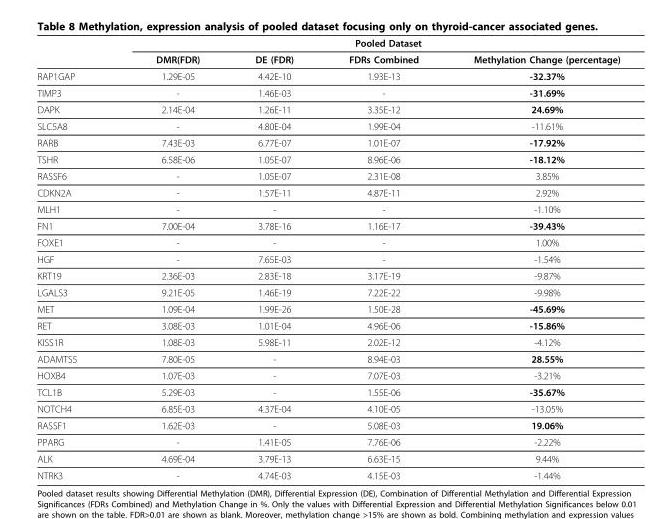table: (36, 36, 619, 480)
table column: (445, 36, 619, 480), (320, 36, 445, 480), (115, 36, 226, 480), (226, 36, 320, 480), (36, 36, 115, 480)
table column header: (36, 36, 619, 67)
table row: (36, 50, 619, 67), (36, 67, 619, 84), (36, 100, 619, 117), (36, 117, 619, 134), (36, 150, 619, 167), (36, 183, 619, 200), (36, 200, 619, 217), (36, 233, 619, 250), (36, 250, 619, 267), (36, 283, 619, 300), (36, 316, 619, 333), (36, 333, 619, 350), (36, 366, 619, 383), (36, 383, 619, 400), (36, 416, 619, 433), (36, 433, 619, 450), (36, 84, 619, 100), (36, 134, 619, 150), (36, 167, 619, 183), (36, 217, 619, 233), (36, 267, 619, 283), (36, 300, 619, 316), (36, 350, 619, 366), (36, 400, 619, 416), (36, 450, 619, 466), (36, 36, 619, 50), (36, 466, 619, 480)
table spanning cell: (115, 36, 619, 50)
